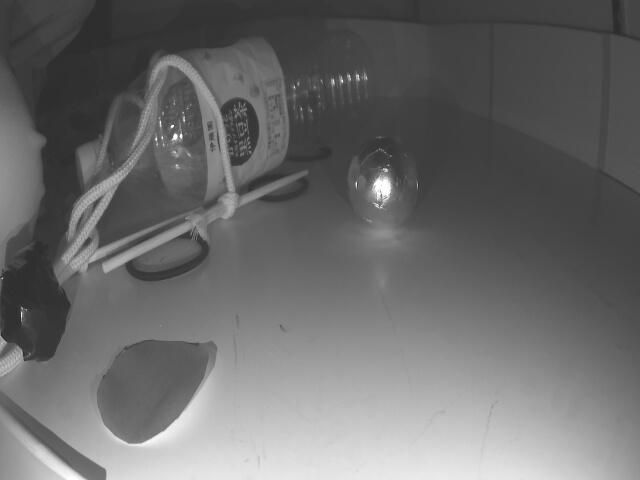Dead: (0, 255, 70, 352)
Live: (348, 137, 421, 230)
